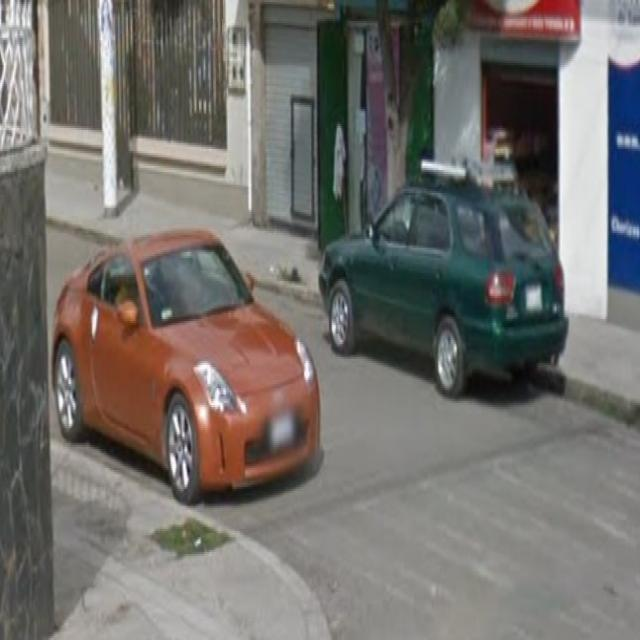Car: (52, 226, 324, 514), (328, 158, 567, 388)
